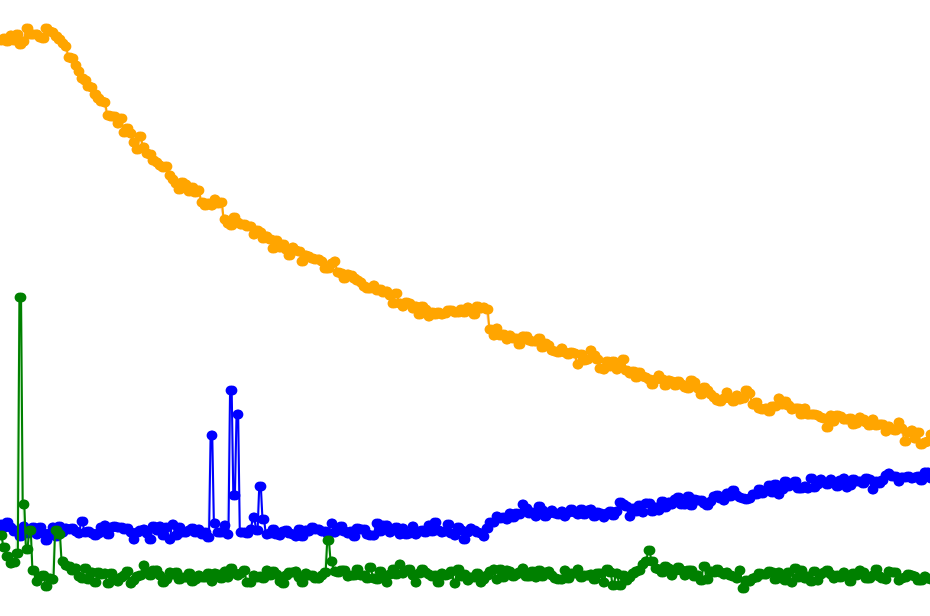CO2 Problem: (0, 0, 466, 616)
Normal: (0, 0, 466, 616), (466, 0, 930, 616)
